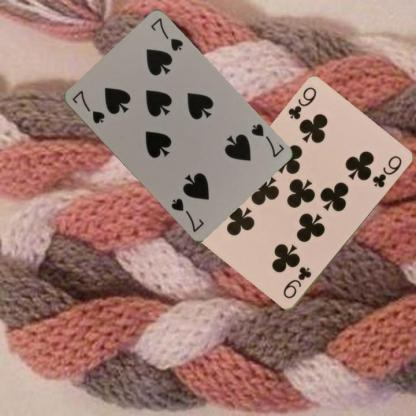7s: (69, 87, 106, 125), (248, 121, 285, 159)
9c: (285, 84, 318, 122), (280, 264, 313, 300)
